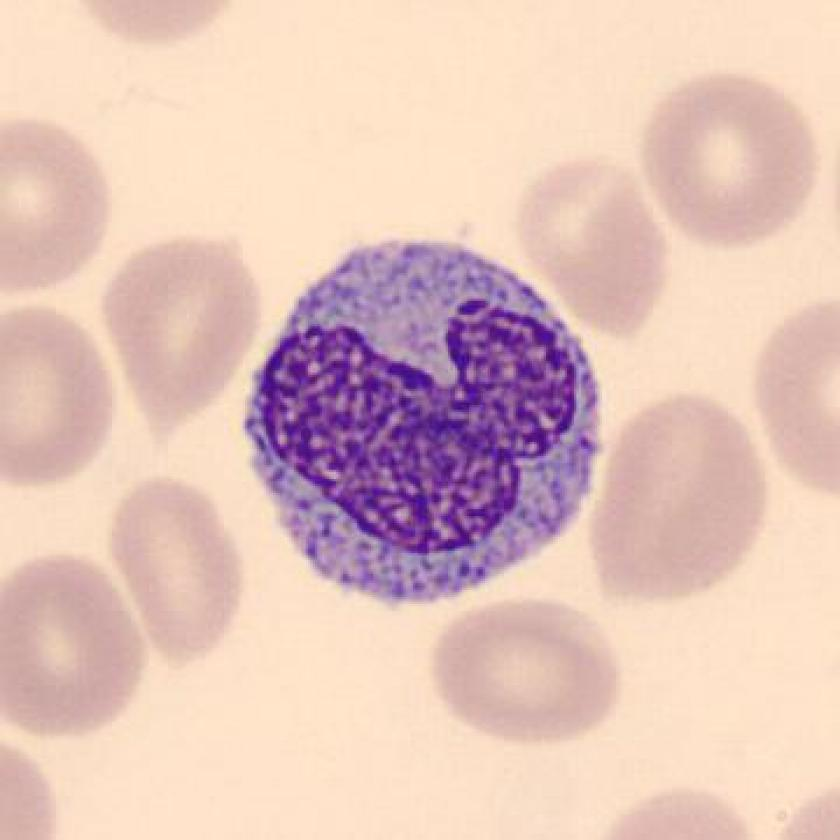monocyte: (221, 207, 627, 628)
